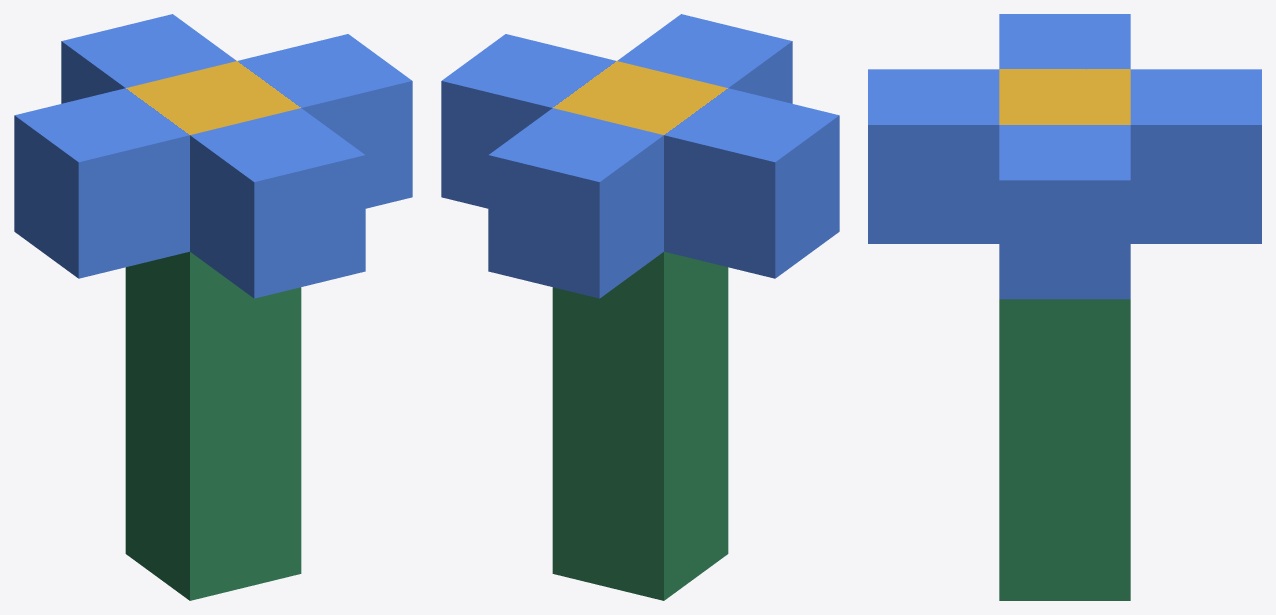
Rendered from flower.fbx.
The picture shows the model from 3 angles, left to right: view 1: azimuth 30°, elevation 25°; view 2: azimuth 150°, elevation 25°; view 3: azimuth 270°, elevation 25°; orthographic projection. The views are drawn at different scales.
Visible parts, largest first — view 1: flower1_3; view 2: flower1_3; view 3: flower1_3.
Part boxes in pixels (x1,y1,x2,y2): flower1_3: (14,14,412,600); flower1_3: (441,14,839,600); flower1_3: (868,14,1261,600).
Bounding box in the file's own units: 3 × 4 × 3.
1 material, 1 textured.
